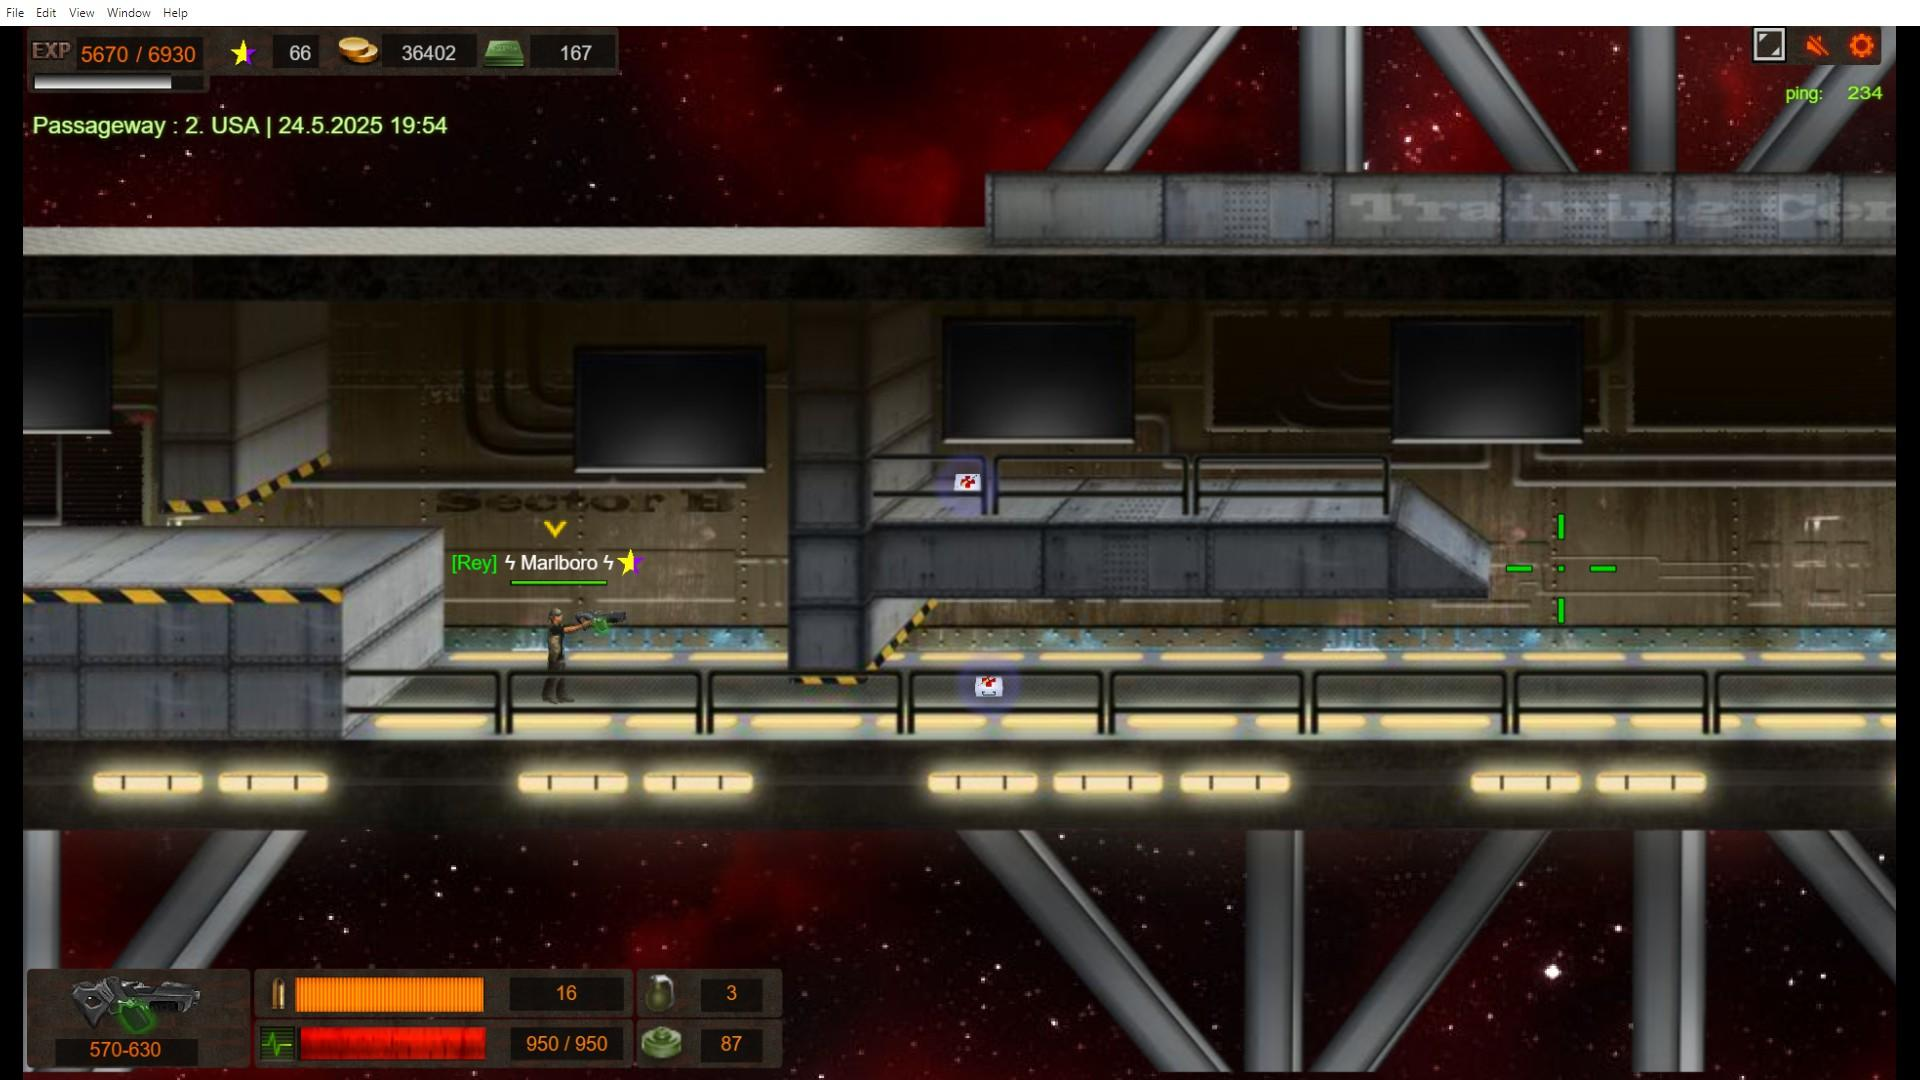enemy: (545, 609, 572, 711)
